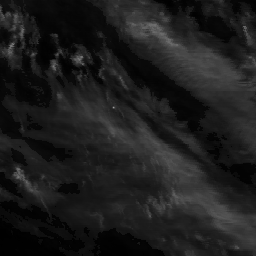Target: (110, 105, 116, 109)
